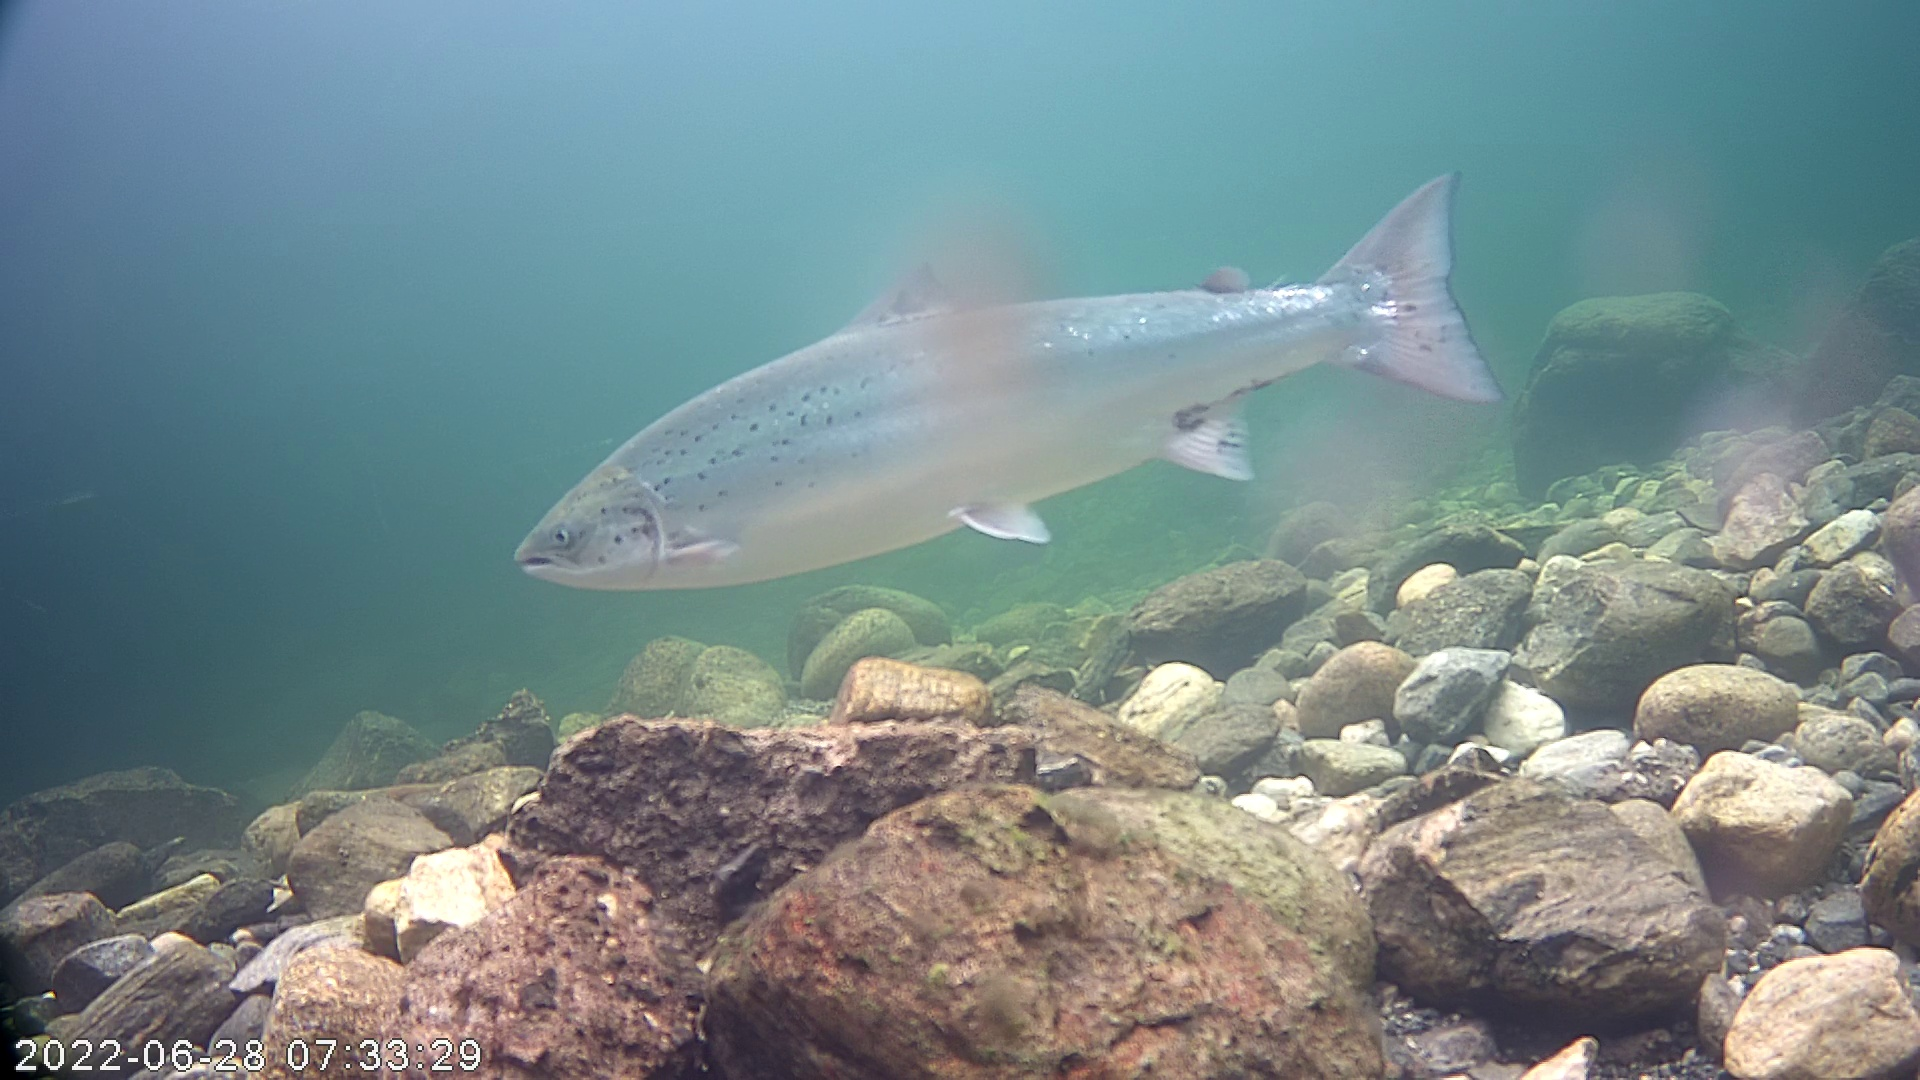salmon: (516, 148, 1530, 609)
